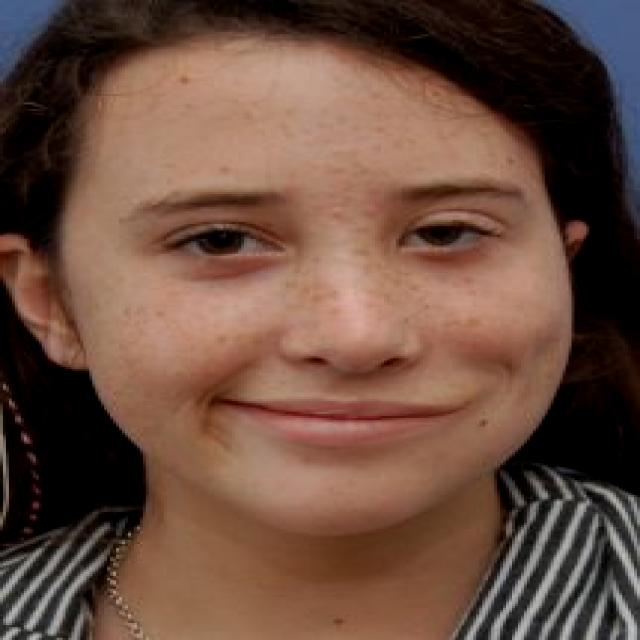stroke_face: (62, 19, 592, 539)
